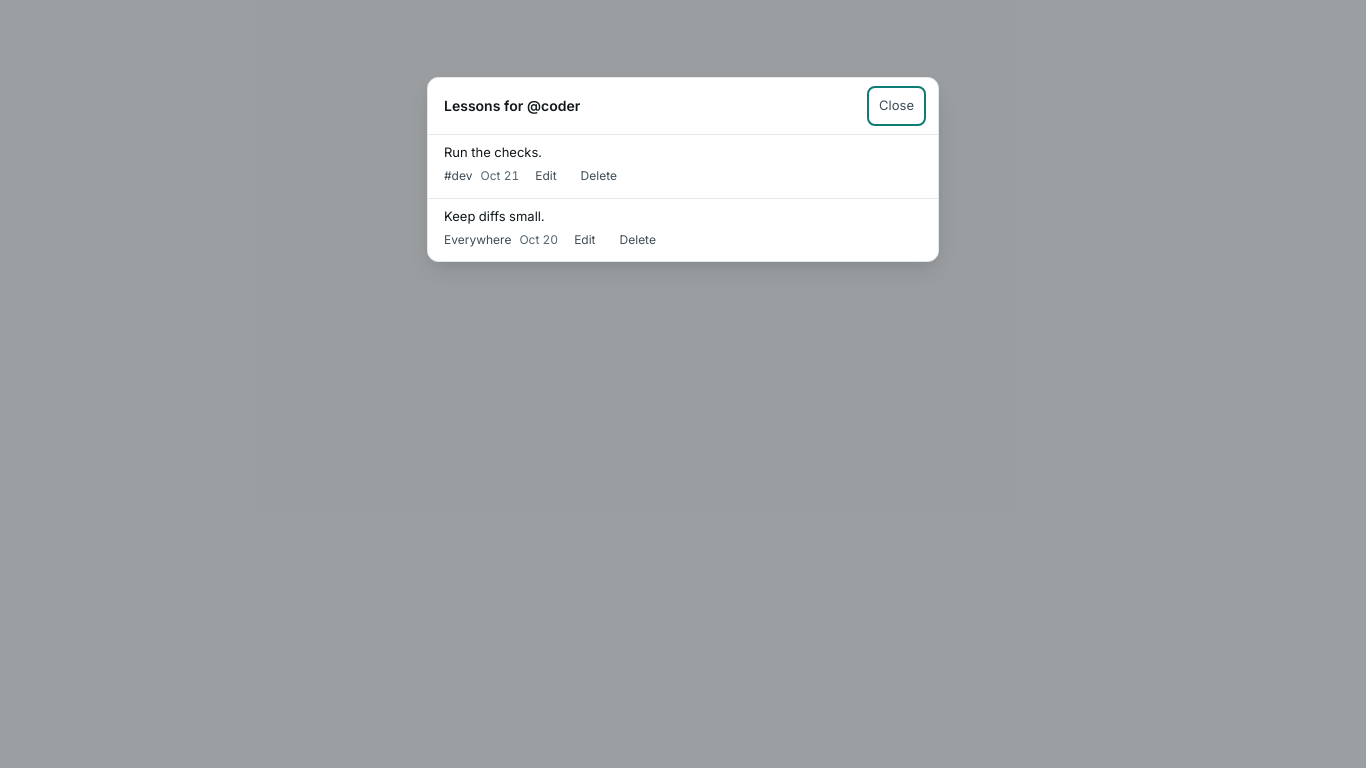
LessonsDialog › keeps the delete for five seconds and Undo cancels it
Expected: the text "Run the checks." is shown, [444, 144, 542, 160]
Click the button "Delete" in the row of "Oct 21". click: {"x": 599, "y": 176}
box: [573, 162, 625, 190]
Wait 4000 ms
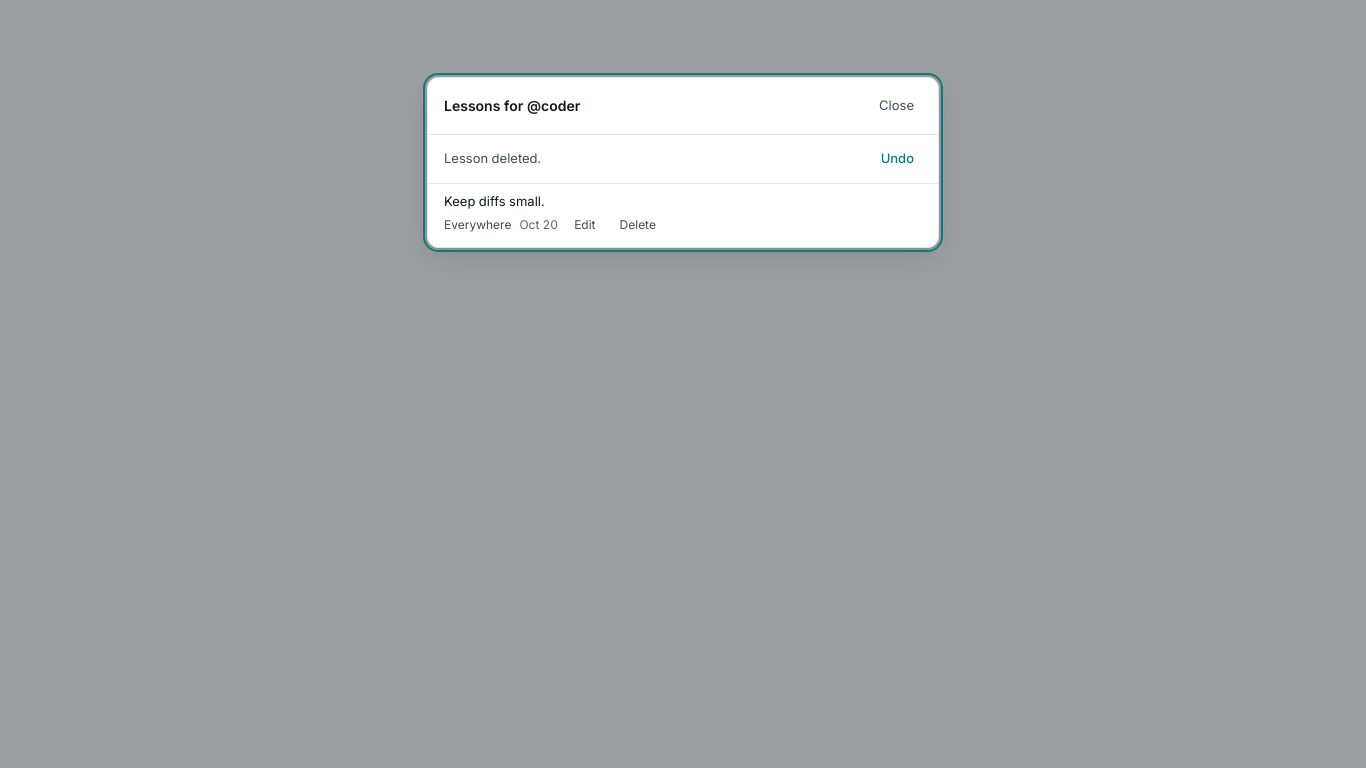
Expected: the message reads "Lesson deleted.", [444, 150, 541, 166]
Click the button "Undo". click: {"x": 897, "y": 159}
box: [873, 143, 922, 175]
Wait 6000 ms
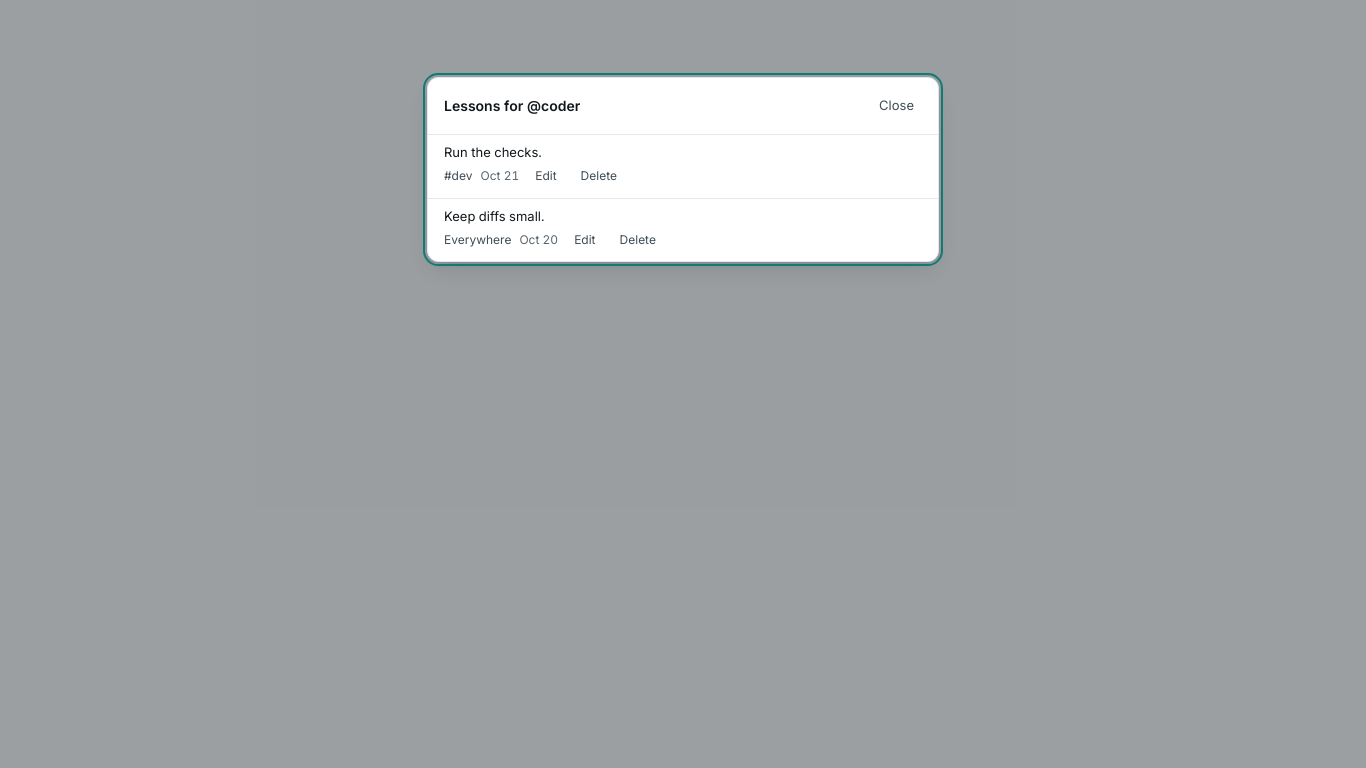
Expected: the text "Run the checks." is shown, [444, 144, 542, 160]
